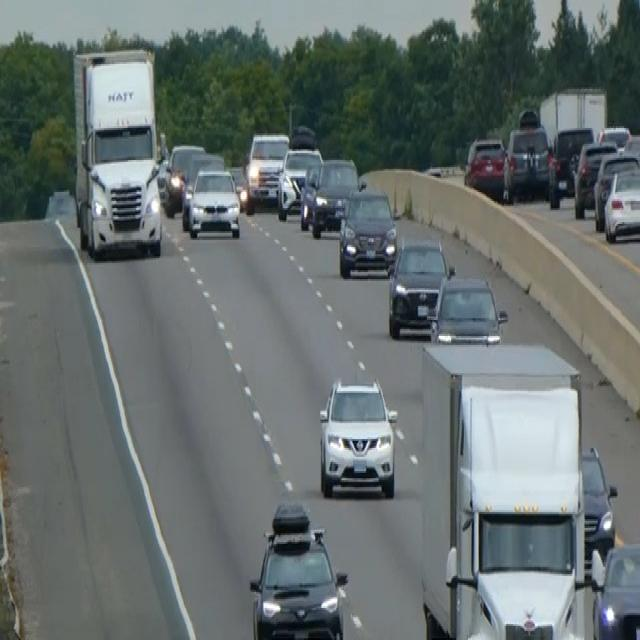car: (247, 498, 349, 638), (386, 235, 451, 338), (428, 272, 507, 345), (337, 185, 397, 277), (300, 154, 360, 236), (590, 539, 639, 638), (580, 442, 617, 572), (187, 166, 241, 238), (547, 125, 594, 206), (504, 123, 551, 199), (572, 139, 617, 217), (276, 146, 322, 220), (180, 149, 225, 224), (245, 130, 289, 204), (162, 141, 204, 215), (463, 133, 508, 199), (603, 164, 639, 242), (598, 123, 631, 149), (622, 134, 639, 172)
jeep: (316, 372, 399, 502)
lorry: (71, 45, 164, 262)
